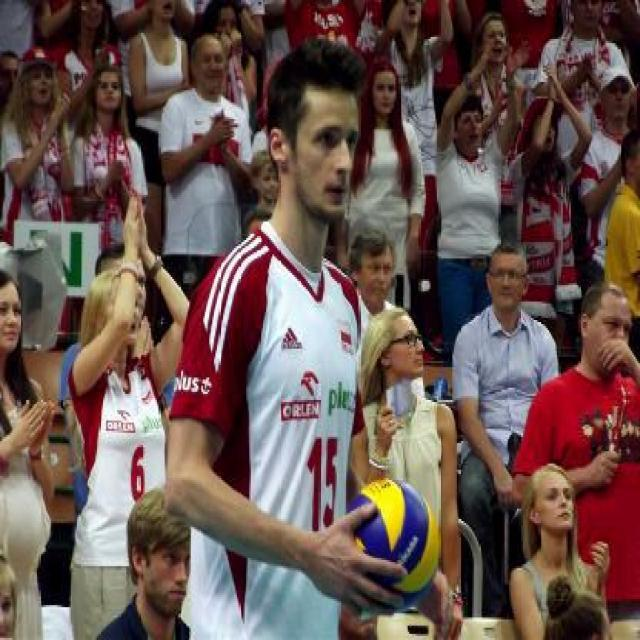volleyball: (344, 479, 440, 607)
